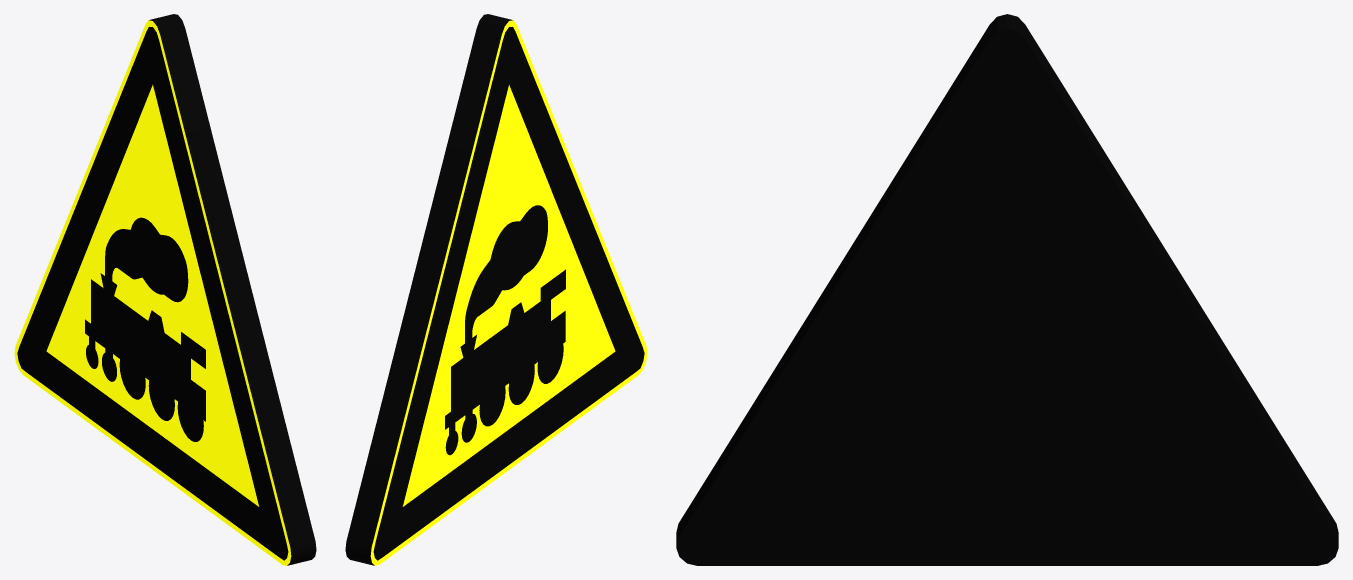
The model's file is Unmanned_RailWay_Crossing.glb.
The picture shows the model from 3 angles, left to right: view 1: azimuth 30°, elevation 25°; view 2: azimuth 150°, elevation 25°; view 3: azimuth 270°, elevation 25°; orthographic projection. The views are drawn at different scales.
Parts seen in each view (by area): view 1: Unmanned_RailWay_Crossing; view 2: Unmanned_RailWay_Crossing; view 3: Unmanned_RailWay_Crossing.
Boxes of the visible parts, <box> form: Unmanned_RailWay_Crossing: <box>14,14,316,565</box>; Unmanned_RailWay_Crossing: <box>345,14,647,565</box>; Unmanned_RailWay_Crossing: <box>676,14,1338,565</box>.
Bounding box in the file's own units: 0.0643 × 1.02 × 1.14.
